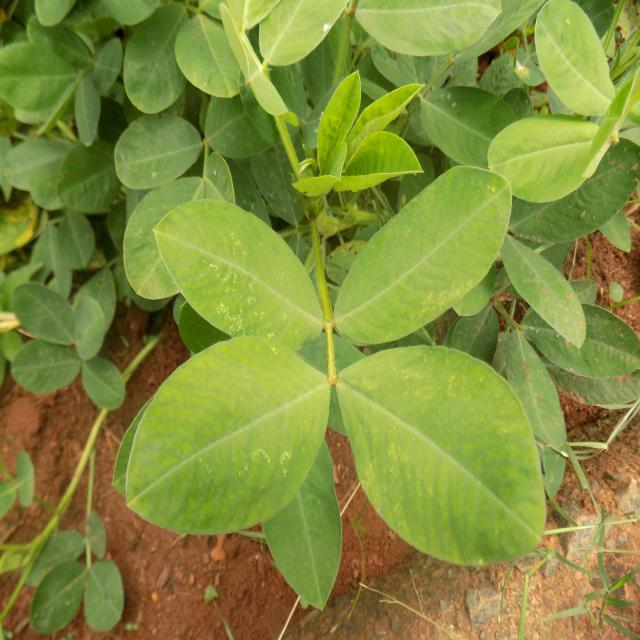Ground nut_healthy: (339, 348, 547, 563), (124, 338, 332, 532), (332, 164, 513, 344), (155, 200, 323, 354)
